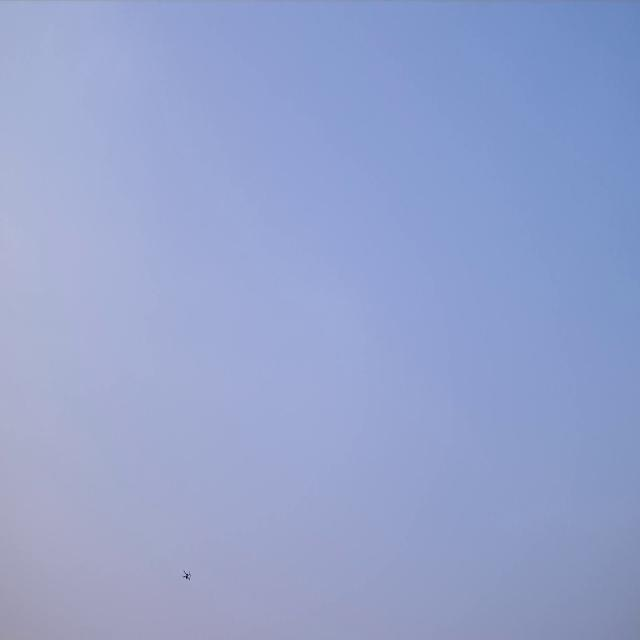UAV: (184, 573, 190, 579)
